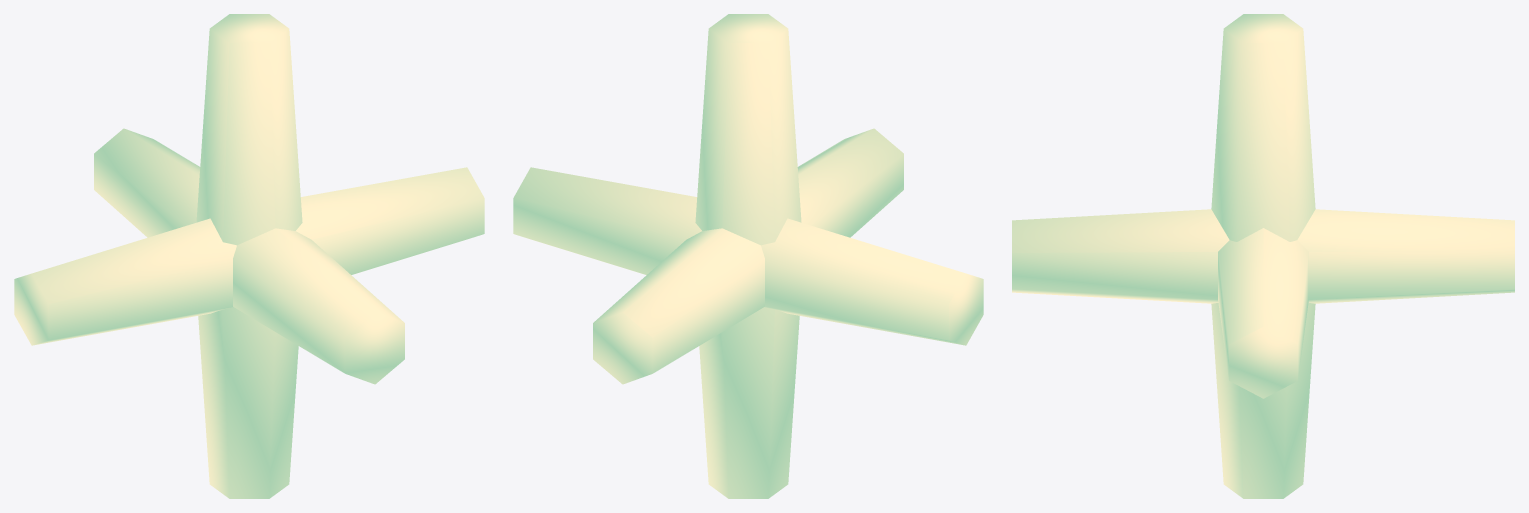
File: SM_RV_Spark.fbx
The picture shows the model from 3 angles, left to right: view 1: azimuth 30°, elevation 25°; view 2: azimuth 150°, elevation 25°; view 3: azimuth 270°, elevation 25°; orthographic projection.
Parts seen in each view (by area): view 1: SM_RV_Spark; view 2: SM_RV_Spark; view 3: SM_RV_Spark.
Part boxes in pixels (x1=…): SM_RV_Spark: x1=14, y1=14, x2=484, y2=498; SM_RV_Spark: x1=513, y1=14, x2=983, y2=498; SM_RV_Spark: x1=1012, y1=14, x2=1514, y2=498.
Bounding box in the file's own units: 100 × 100 × 100.
